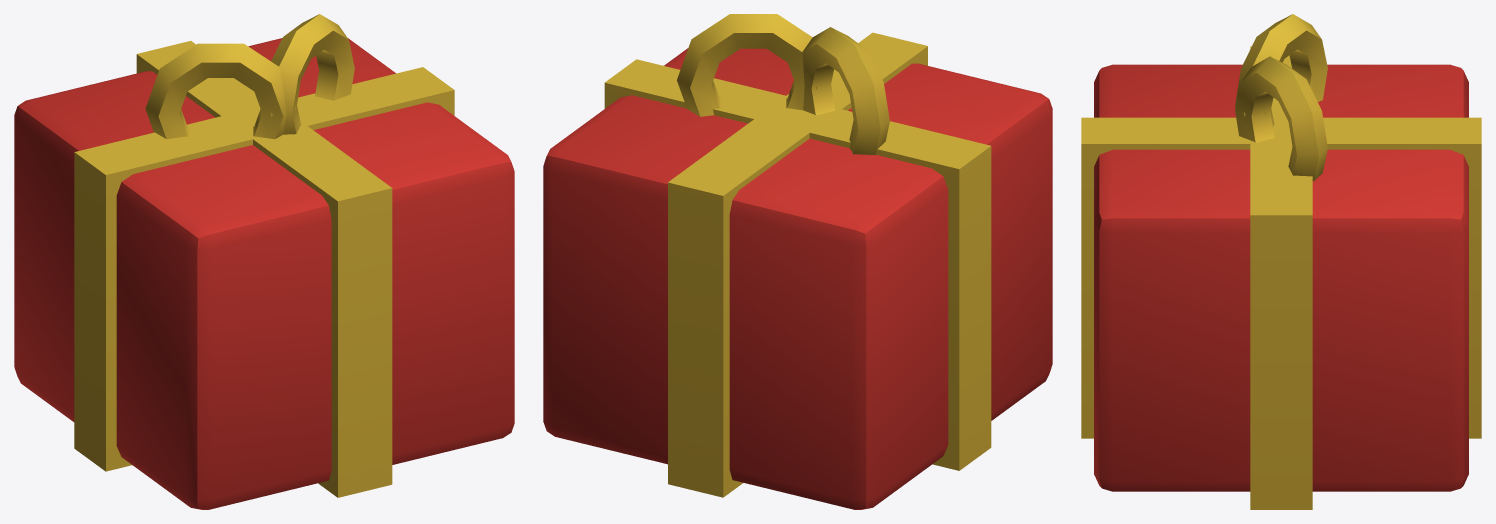
File: lo_gift.glb
3 views of the same model, side by side, from view 1: azimuth 30°, elevation 25°; view 2: azimuth 150°, elevation 25°; view 3: azimuth 270°, elevation 25° (orthographic). The views are drawn at different scales.
Parts seen in each view (by area): view 1: body; view 2: body; view 3: body.
Boxes of the visible parts, x1,y1,x2,y2 form: body: (14,14,514,509); body: (543,14,1052,509); body: (1081,14,1481,509).
Bounding box in the file's own units: 0.64 × 0.6741 × 0.64.
